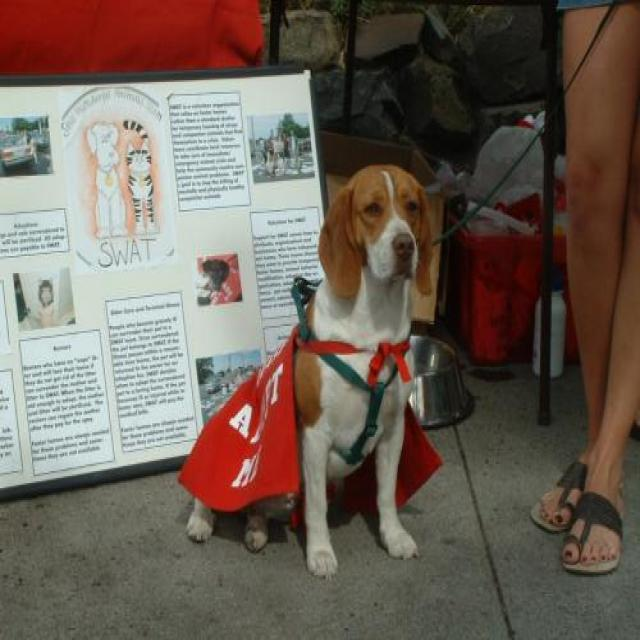dogs: (173, 164, 437, 581)
